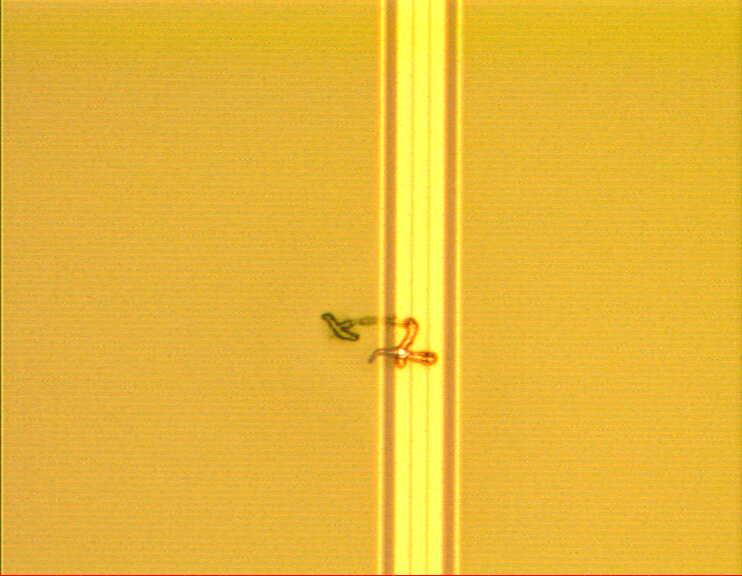PIQ PARTICLE: (319, 308, 440, 374)
